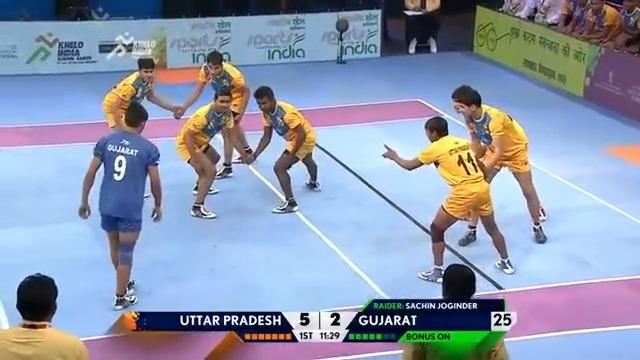Player: (380, 113, 516, 288), (449, 82, 551, 245), (174, 49, 253, 181), (245, 83, 323, 215), (174, 85, 236, 220), (101, 56, 182, 132)
Raider: (75, 102, 163, 311)
referee: (0, 272, 90, 359), (402, 0, 442, 54)
